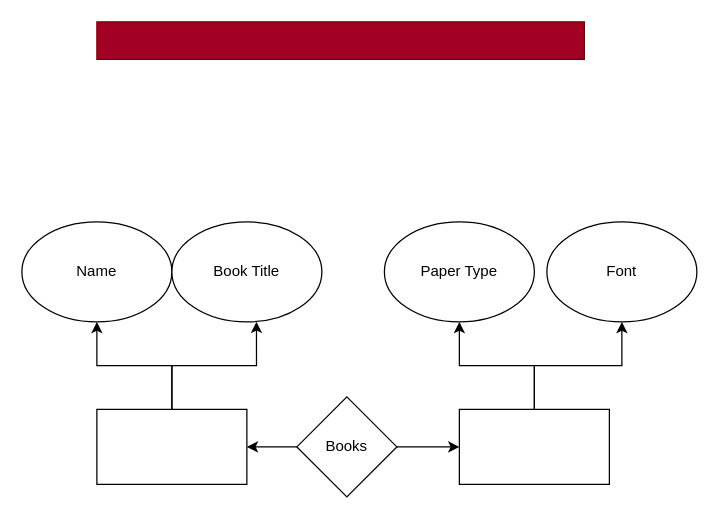
Some shapes in this 719 by 519 pixel diagram are drawn without their labels. Here are the shapes that lost their labels. From the top down, the centre of each, then its label:
At pixel 340 40: "SEE NOTES FOR CORRECT SOULTION".
At pixel 171 446: "Author".
At pixel 533 446: "Printer".
